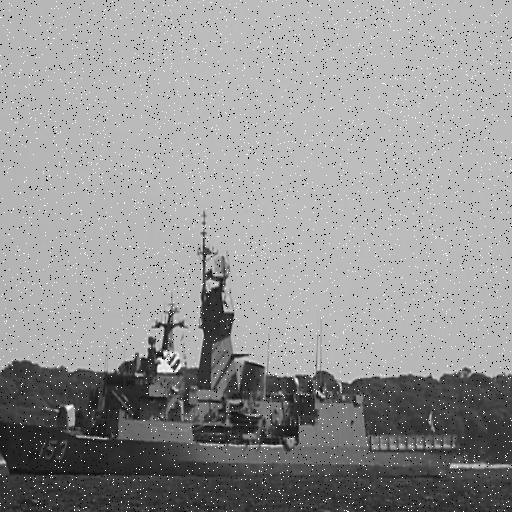Fragata: (1, 205, 462, 485)
